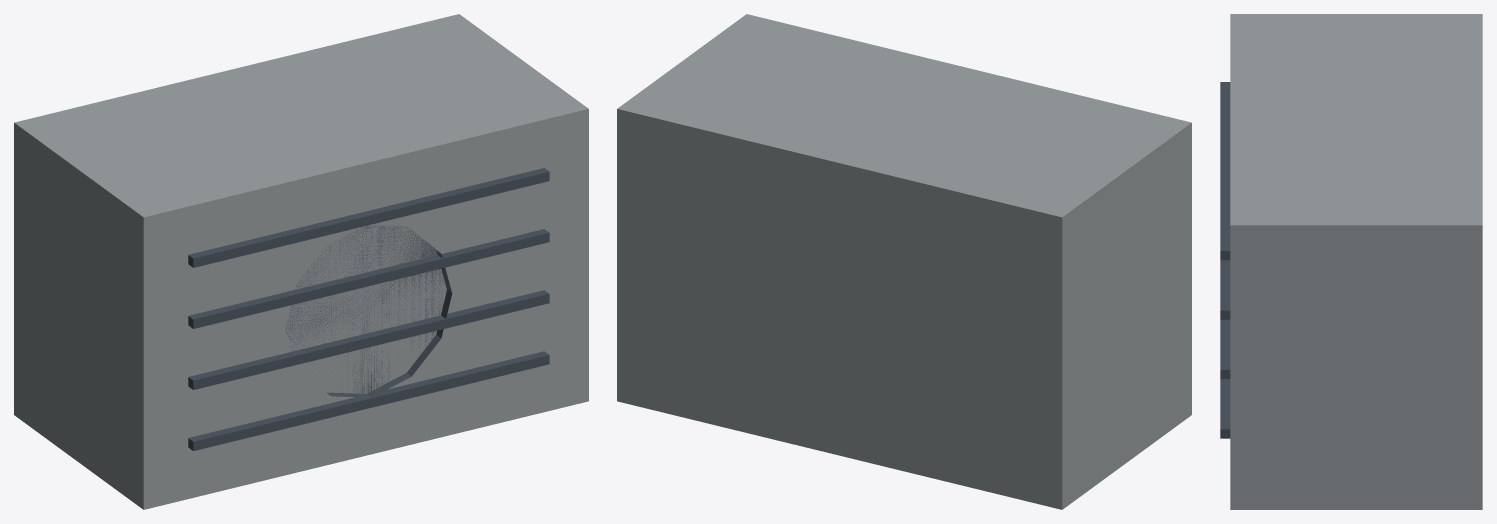
File: ac_unit_01.glb
The picture shows the model from 3 angles, left to right: view 1: azimuth 30°, elevation 25°; view 2: azimuth 150°, elevation 25°; view 3: azimuth 270°, elevation 25°; orthographic projection. The views are drawn at different scales.
Parts seen in each view (by area): view 1: ac_unit_01; view 2: ac_unit_01; view 3: ac_unit_01.
Boxes of the visible parts, x1,y1,x2,y2 form: ac_unit_01: (14,14,588,509); ac_unit_01: (617,14,1191,509); ac_unit_01: (1220,14,1482,509).
Size of the model in its own units: 0.9915 by 0.6226 by 0.52.
